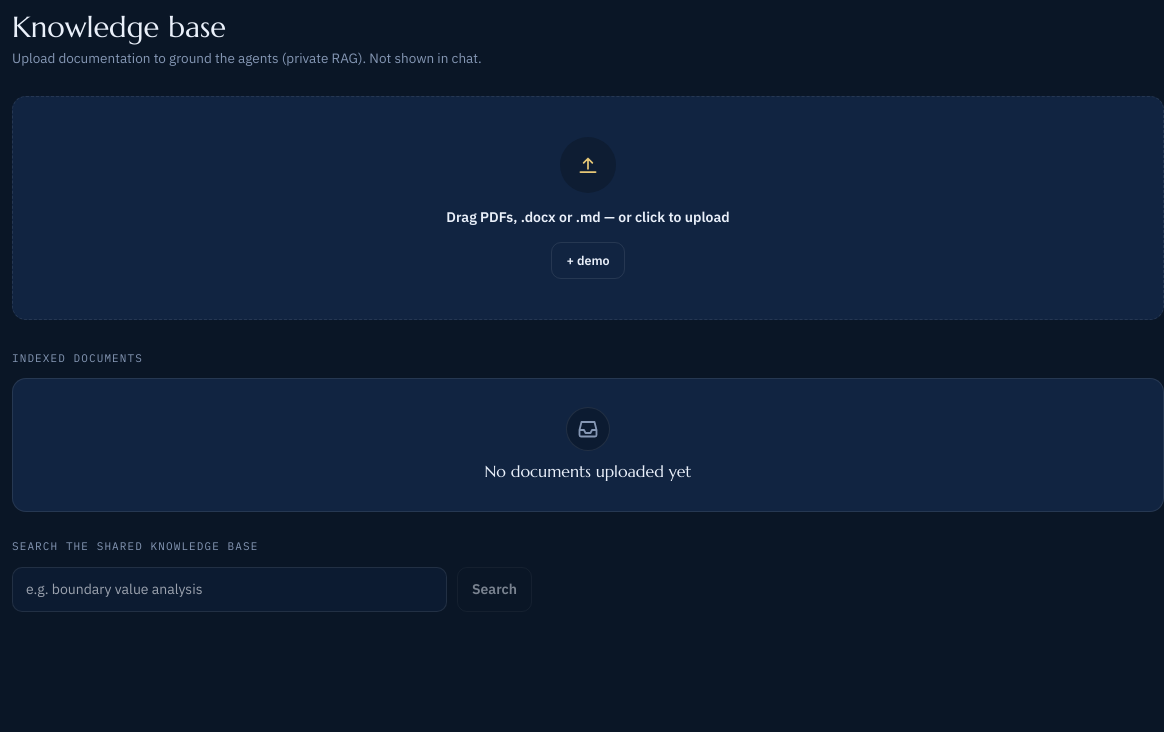
it: KnowledgeScreen › searches the shared KB and renders results with citations
Type "boundary value" into the field named "Search query" at (230, 589), box left=12, top=567, right=447, bottom=612
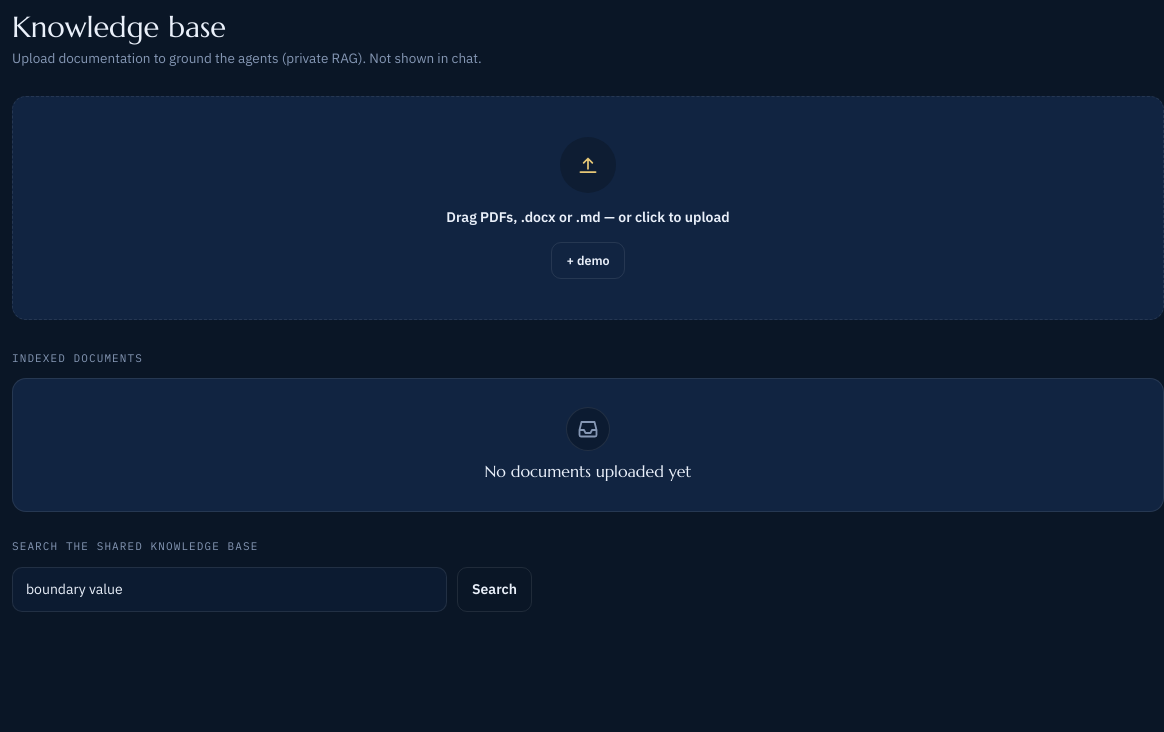
Click the button "Search" at (494, 589), box left=457, top=567, right=532, bottom=612
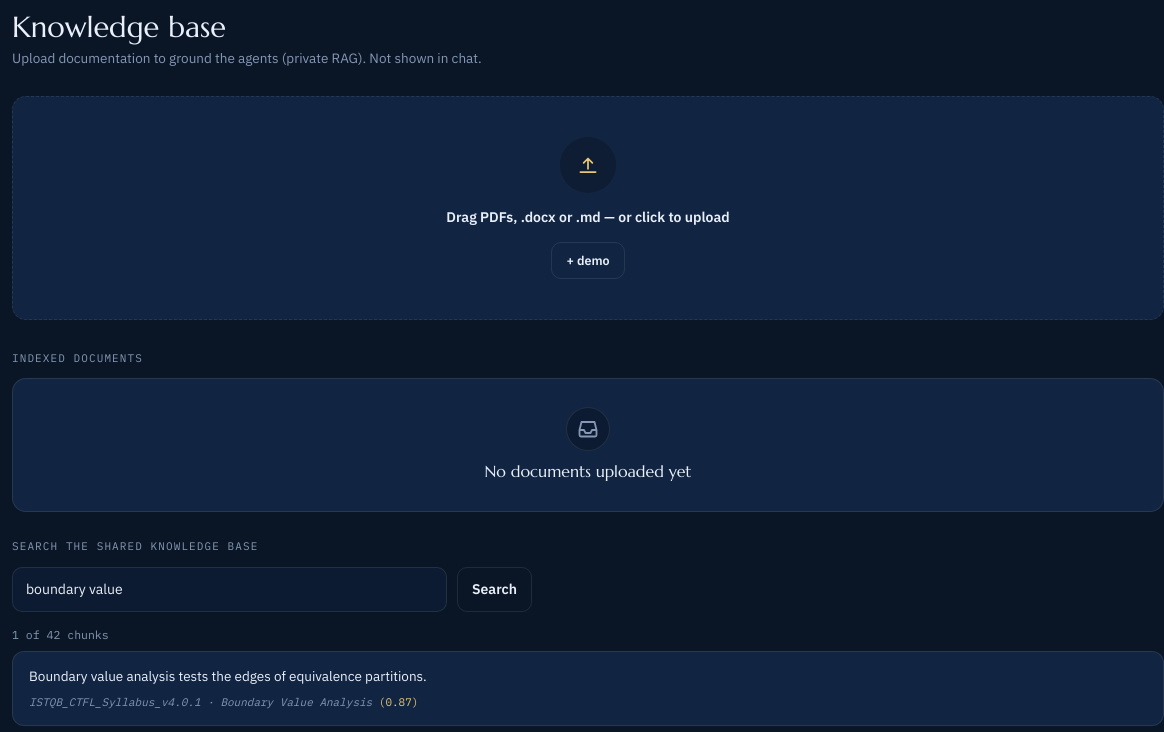
Check: the text "Boundary value analysis tests the edges" is shown, box left=29, top=667, right=427, bottom=685
Check: the text "ISTQB_CTFL_Syllabus_v4.0.1 · Boundary Value Analysis" is shown, box left=29, top=695, right=372, bottom=709
